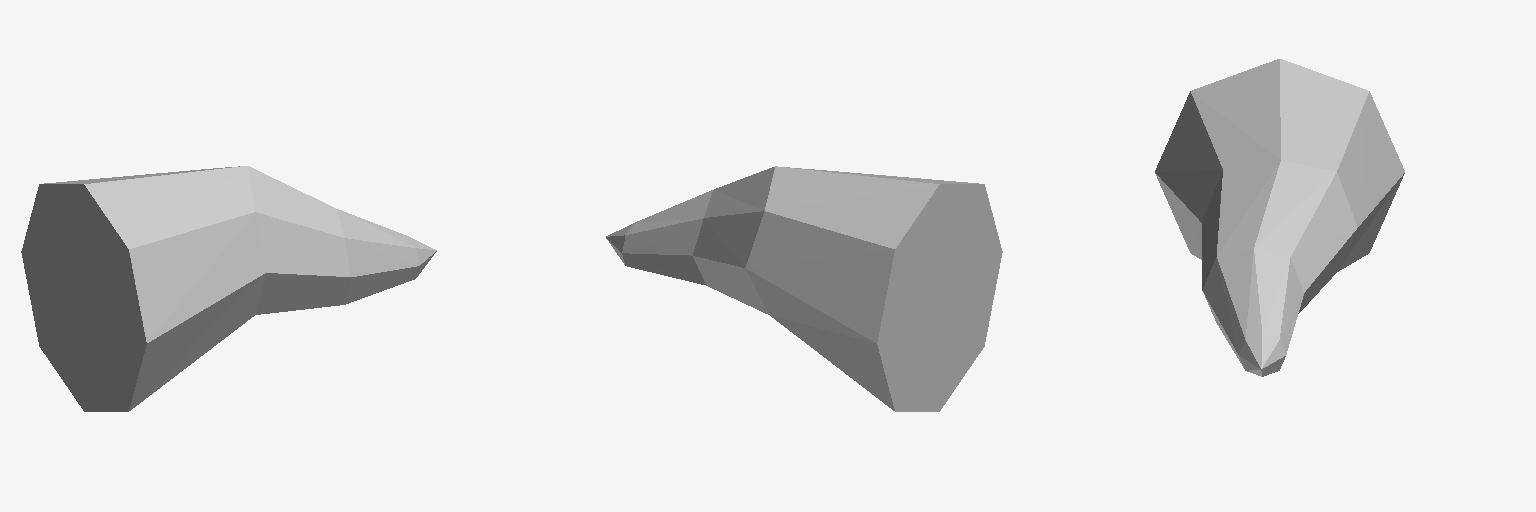
The model's file is stub.obj.
The picture shows the model from 3 angles: view 1: azimuth 30°, elevation 25°; view 2: azimuth 150°, elevation 25°; view 3: azimuth 270°, elevation 25°; orthographic projection.
Visible parts, largest first — view 1: Stub_Cube.009; view 2: Stub_Cube.009; view 3: Stub_Cube.009.
Part boxes in pixels (left/top/right/bottom): Stub_Cube.009: left=21, top=166, right=436, bottom=411; Stub_Cube.009: left=606, top=166, right=1002, bottom=411; Stub_Cube.009: left=1155, top=59, right=1404, bottom=376.
Bounding box in the file's own units: 2.41 × 1.52 × 1.52.